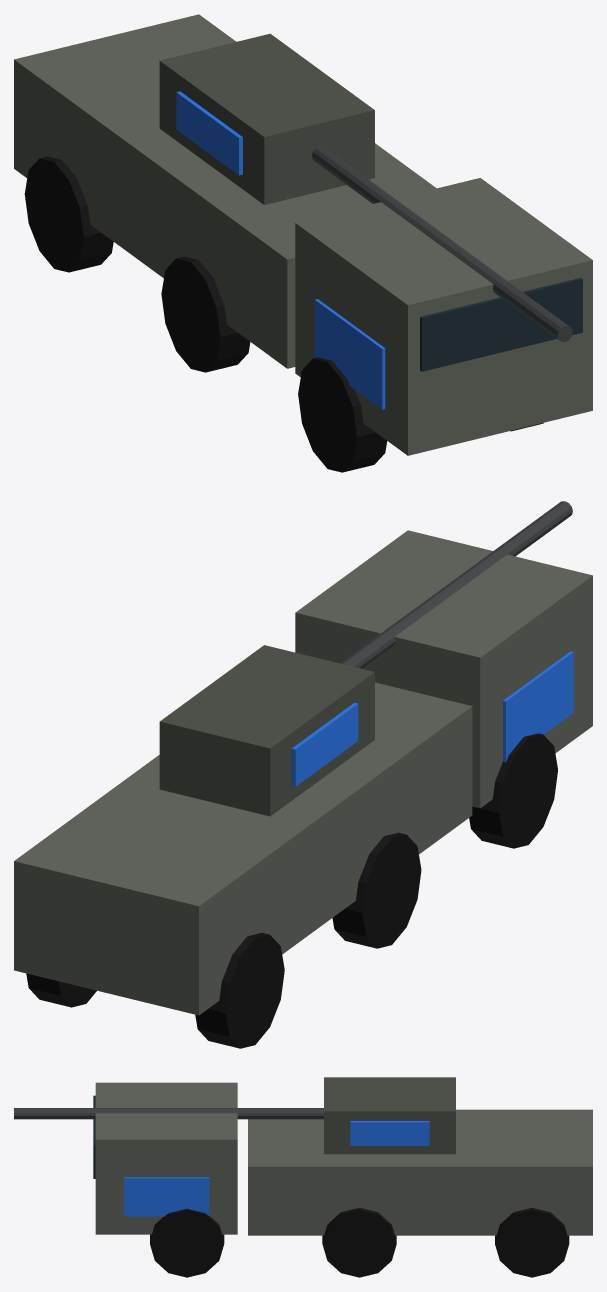
The model's file is eu_howitzer.glb.
The picture shows the model from 3 angles, top to bottom: view 1: azimuth 30°, elevation 25°; view 2: azimuth 150°, elevation 25°; view 3: azimuth 270°, elevation 25°; orthographic projection. The views are drawn at different scales.
Visible parts, largest first — view 1: cab, body, turret, windshield, wheel_l1, wheel_l2, wheel_l0, barrel, team_door_l, team_panel_l; view 2: body, cab, turret, wheel_l2, wheel_l1, wheel_l0, team_door_l, barrel, team_panel_l, wheel_r2; view 3: body, cab, turret, wheel_r1, wheel_r2, wheel_r0, team_door_r, barrel, team_panel_r.
Part boxes in pixels (x1,y1,x2,y2): cab: (295,178,592,455); body: (14,14,436,368); turret: (159,33,374,204); windshield: (420,277,582,371); wheel_l1: (161,256,250,372); wheel_l2: (24,156,113,272); wheel_l0: (298,357,387,472); barrel: (312,146,572,341); team_door_l: (314,299,385,409); team_panel_l: (176,91,242,175); body: (14,682,472,1015); cab: (295,530,592,808); turret: (159,645,374,816); wheel_l2: (195,932,284,1048); wheel_l1: (332,832,421,948); wheel_l0: (469,733,557,848); team_door_l: (503,651,573,762); barrel: (340,501,572,668); team_panel_l: (291,703,358,786); wheel_r2: (26,973,96,1007); body: (248,1109,592,1235); cab: (95,1082,237,1234); turret: (324,1077,455,1154); wheel_r1: (322,1207,396,1277); wheel_r2: (495,1208,569,1277); wheel_r0: (150,1208,224,1277); team_door_r: (124,1177,209,1216); barrel: (14,1108,323,1119); team_panel_r: (350,1121,429,1145).
Bounding box in the file's own units: 2.6 × 2.98 × 10.27.
